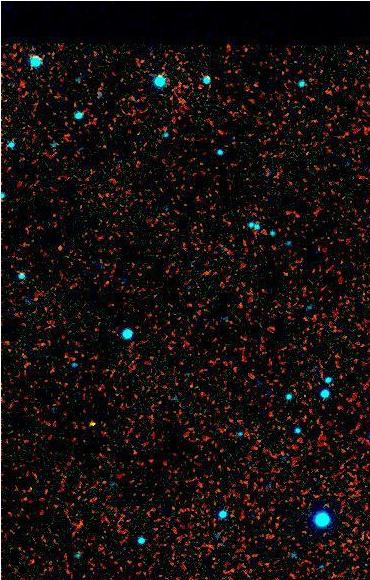star: (78, 408, 108, 438)
